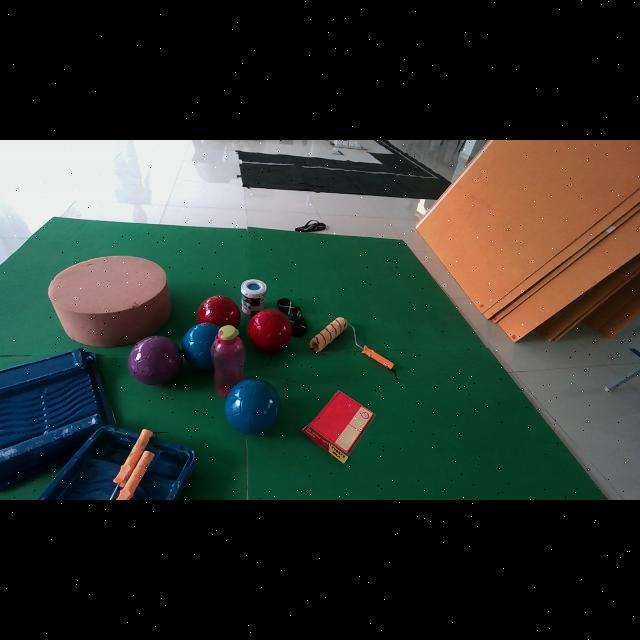B: (225, 378, 279, 435), (182, 323, 220, 370)
P: (128, 335, 182, 386)
R: (248, 309, 292, 353), (198, 295, 241, 327)
